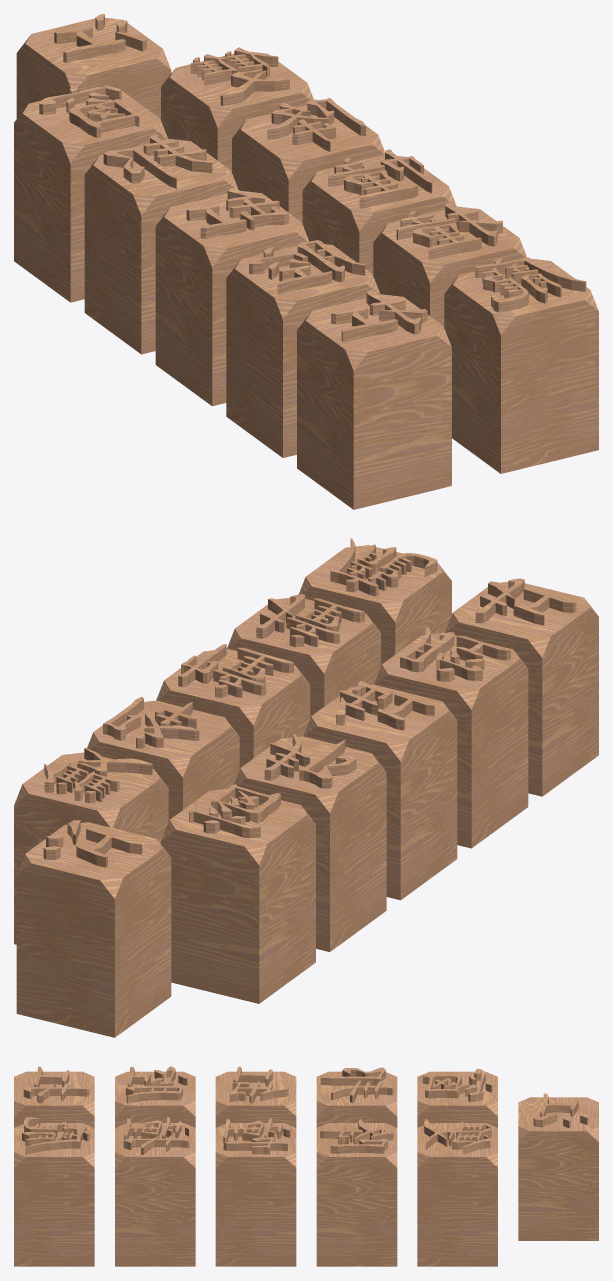
The model's file is 木活字_3.fbx.
3 renders of one model, top to bottom at view 1: azimuth 30°, elevation 25°; view 2: azimuth 150°, elevation 25°; view 3: azimuth 270°, elevation 25°, orthographic. The views are drawn at different scales.
Visible parts, largest first — view 1: Box045, Box046, Box039, Box041, Box043, Box037, Box040, Box036, Box038, Box042, Box044; view 2: Box036, Box037, Box043, Box041, Box045, Box039, Box038, Box042, Box046, Box044, Box040; view 3: Box042, Box040, Box046, Box044, Box038, Box036, Box039, Box041, Box043, Box037, Box045.
Boxes of the visible parts, x1,y1,x2,y2 form: Box045: [297, 290, 451, 509]; Box046: [444, 257, 598, 473]; Box039: [84, 134, 238, 354]; Box041: [155, 188, 309, 406]; Box043: [226, 240, 380, 457]; Box037: [14, 85, 167, 302]; Box040: [232, 98, 384, 223]; Box036: [16, 14, 171, 119]; Box038: [161, 47, 313, 171]; Box042: [302, 149, 456, 275]; Box044: [373, 202, 527, 327]; Box036: [16, 820, 171, 1037]; Box037: [161, 784, 315, 1003]; Box043: [374, 627, 528, 848]; Box041: [303, 681, 457, 900]; Box045: [445, 578, 598, 796]; Box039: [234, 734, 386, 951]; Box038: [14, 747, 168, 944]; Box042: [156, 644, 310, 769]; Box046: [298, 538, 451, 666]; Box044: [227, 594, 380, 717]; Box040: [87, 696, 239, 821]; Box042: [215, 1118, 296, 1266]; Box040: [316, 1119, 397, 1266]; Box046: [14, 1117, 94, 1266]; Box044: [115, 1117, 195, 1266]; Box038: [417, 1119, 497, 1266]; Box036: [518, 1093, 598, 1240]; Box039: [316, 1067, 397, 1127]; Box041: [215, 1066, 296, 1127]; Box043: [115, 1066, 195, 1127]; Box037: [417, 1068, 497, 1127]; Box045: [14, 1066, 94, 1127].
Bounding box in the file's own units: 5 × 3.2 × 14.5.
Materials: 1 (1 with a texture image).
